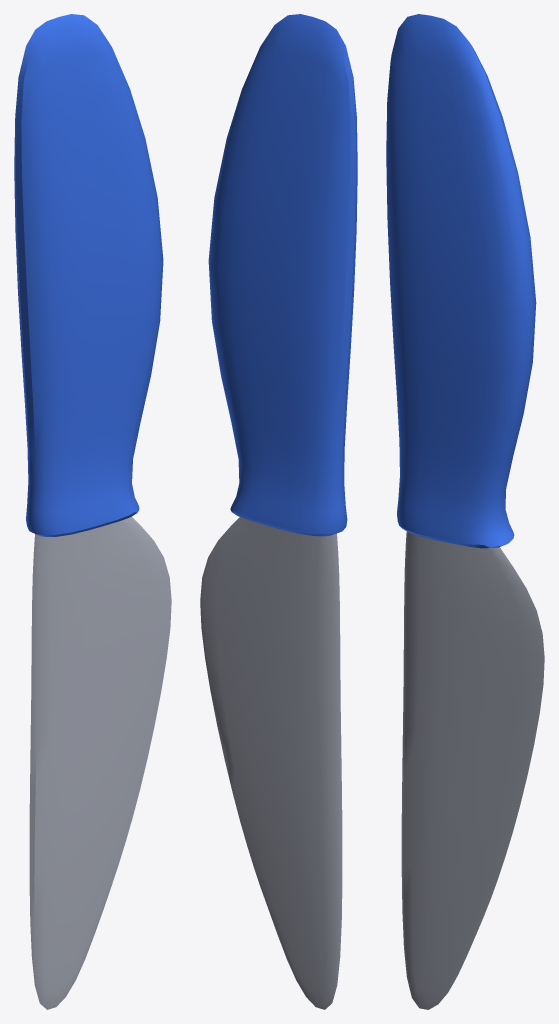
Rendered from bıcak.fbx.
3 views of the same model, side by side, from view 1: azimuth 30°, elevation 25°; view 2: azimuth 150°, elevation 25°; view 3: azimuth 330°, elevation 25° (orthographic).
Parts seen in each view (by area): view 1: Cube.106; view 2: Cube.106; view 3: Cube.106.
Boxes of the visible parts, x1,y1,x2,y2 form: Cube.106: [14, 14, 171, 1009]; Cube.106: [200, 14, 357, 1009]; Cube.106: [386, 14, 544, 1009].
Bounding box in the file's own units: 169 × 52.29 × 1026.
